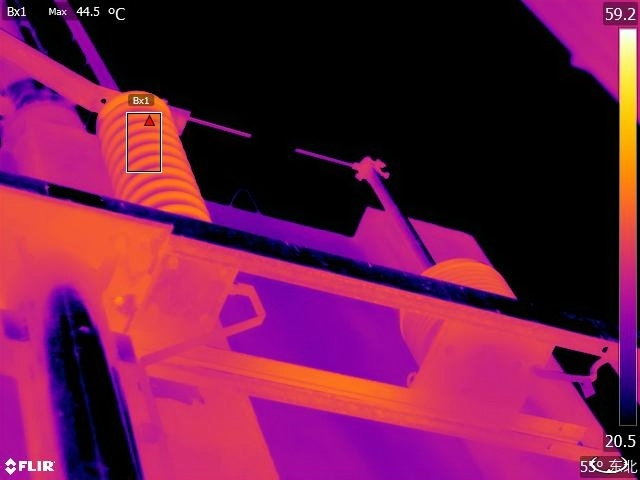post insulator: (90, 82, 212, 236), (388, 247, 527, 372)
